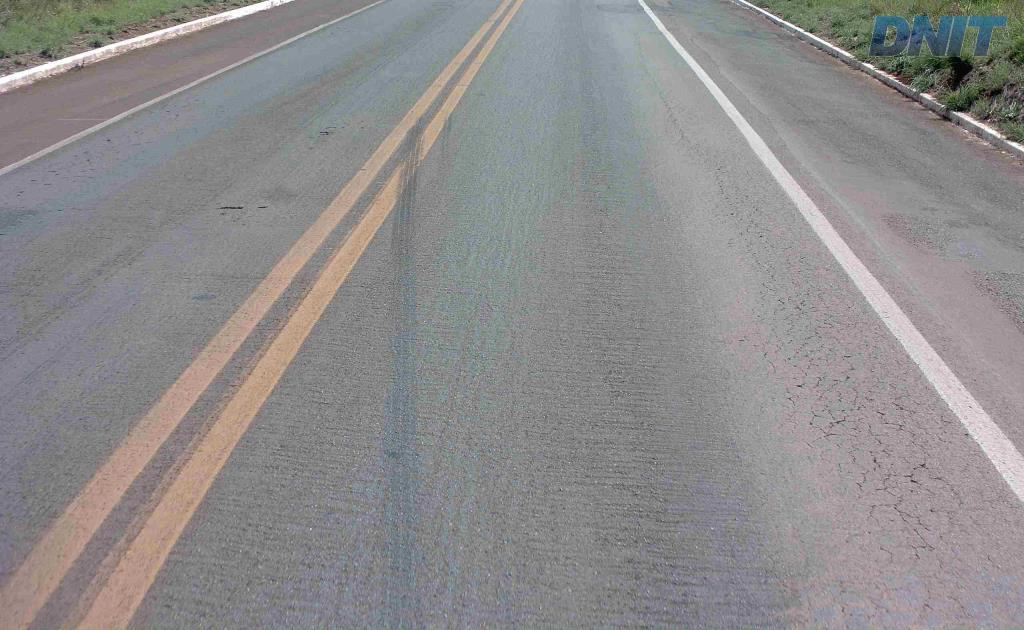crack: (874, 470, 931, 531), (903, 457, 964, 507), (875, 386, 920, 431)
